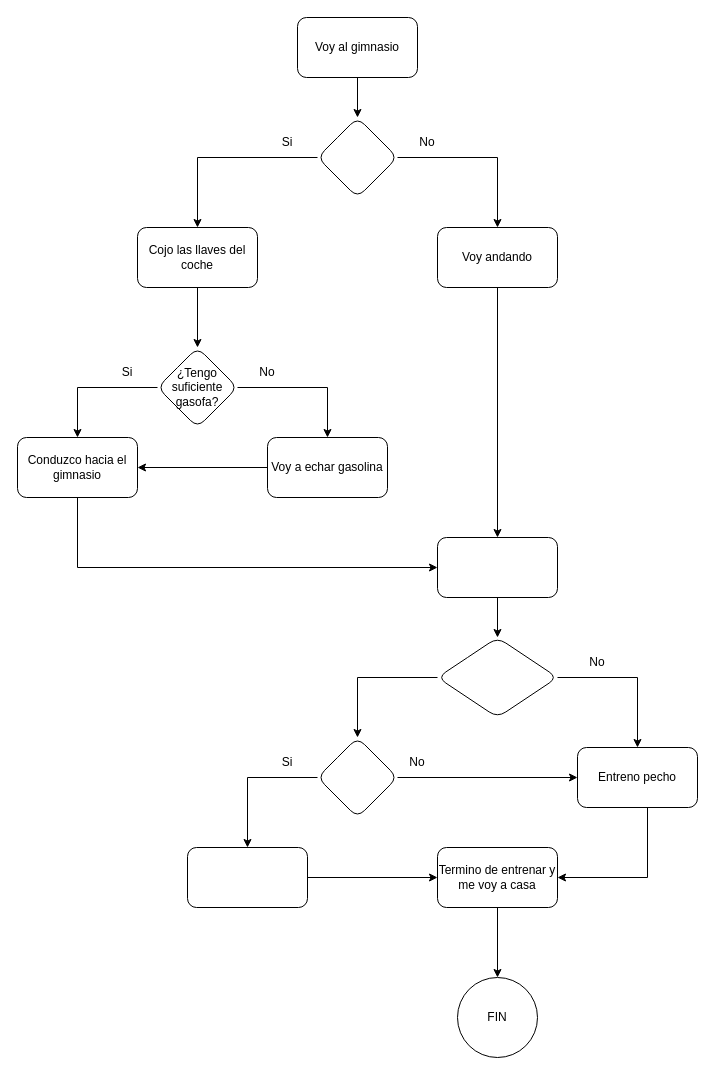
Some shapes in this 715 by 1075 pixel diagram are drawn without their labels. Each missing label, with the centre of its shape:
"Entreno pierna" goes at [247,877].
"Llego al gimnasio y dejo mis cosas" goes at [497,567].
"¿De verdad?" goes at [357,777].
"¿Me apetece entrenar pierna?" goes at [497,677].
"¿Voy en coche?" goes at [357,157].
